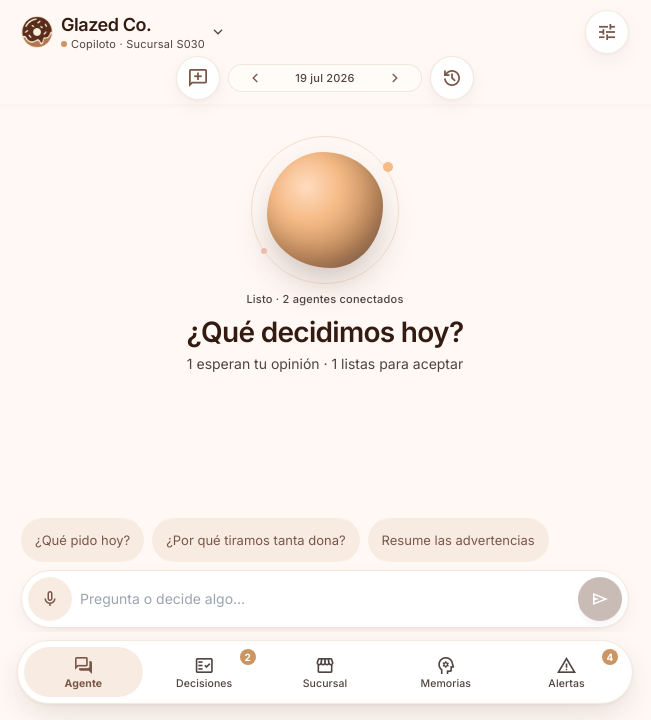
Test: Memorias window › says 'Disponible pronto' when the route answers 404 and the error otherwise
The width and height of the screenshot is (651, 720).
Click the button "Memorias".
click(446, 672)  # box [386, 647, 505, 697]
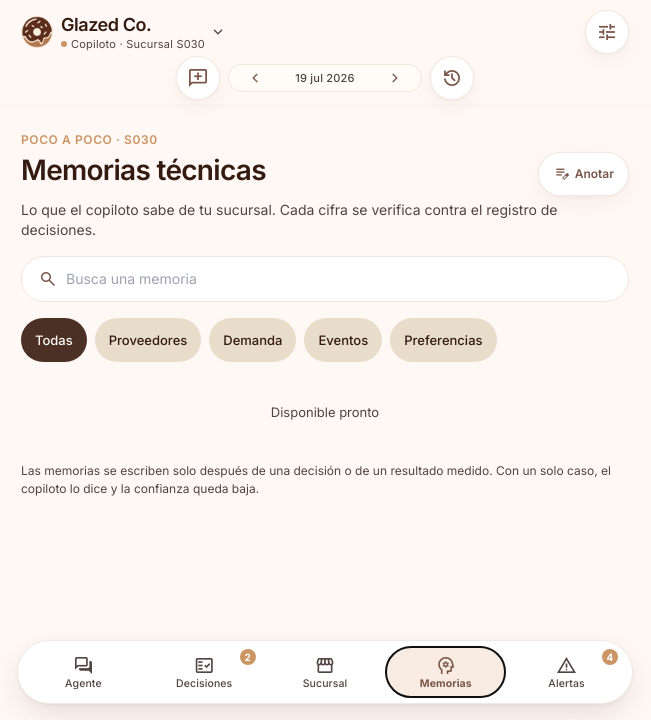
Now the text "Disponible pronto" is shown, box [271, 404, 379, 420]
